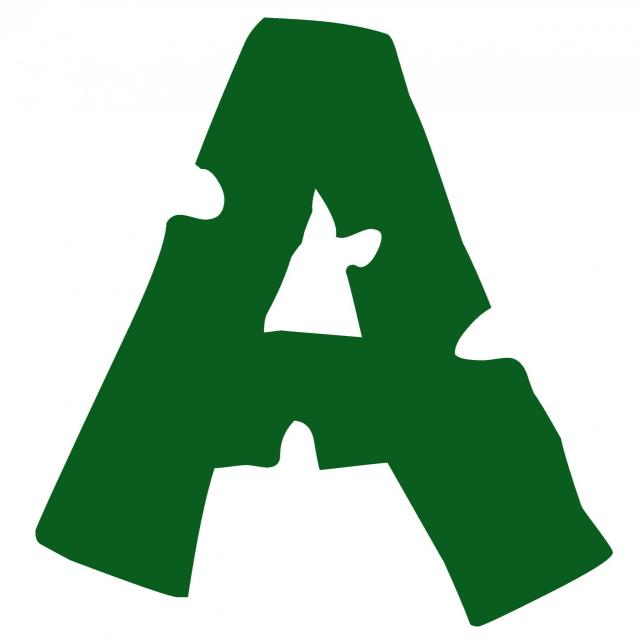A: (45, 13, 620, 636)
